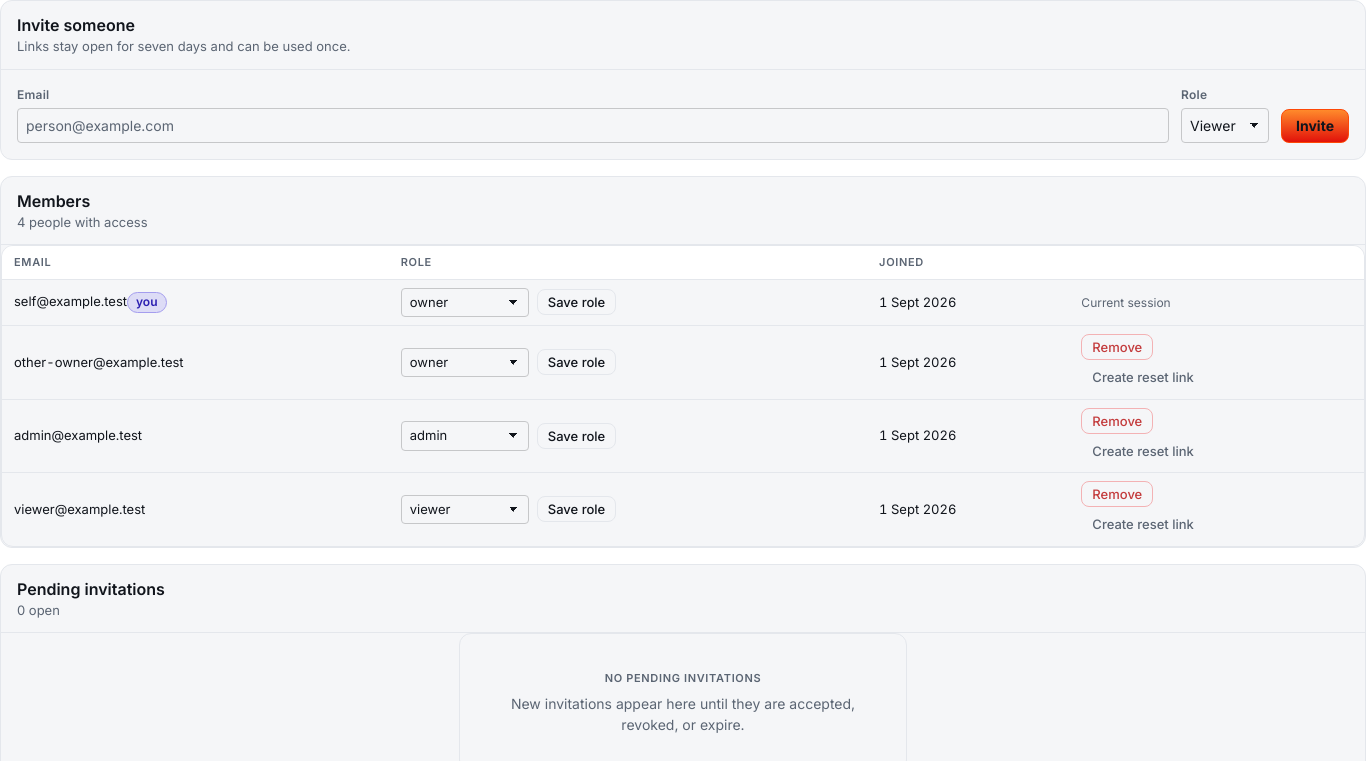
members screen one-time links › warns that an uncertain email may have replaced the shown new-account link
Type "person@example.test" into the field labelled "Email" at point(593, 125), box [17, 108, 1169, 142]
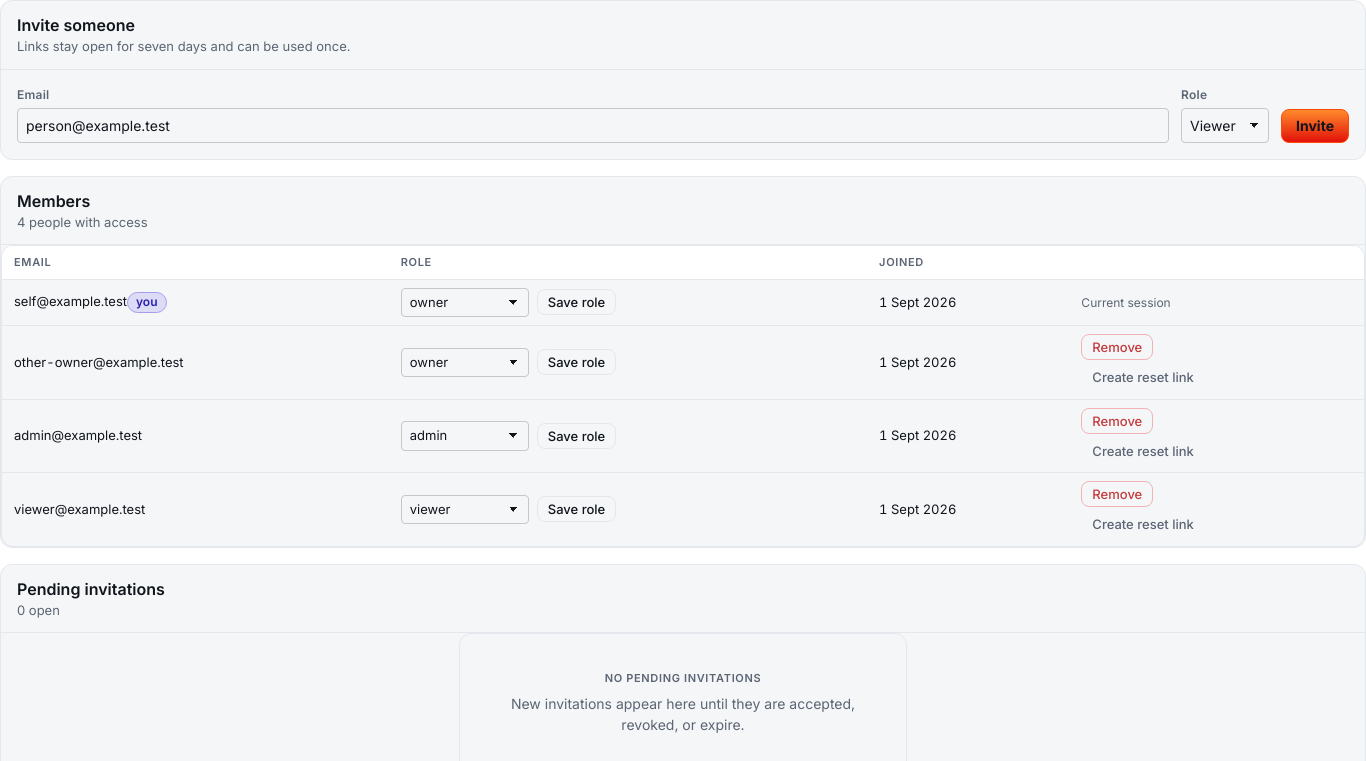
Click the button with test id "create-invite" at point(1315, 126), box [1281, 109, 1349, 142]
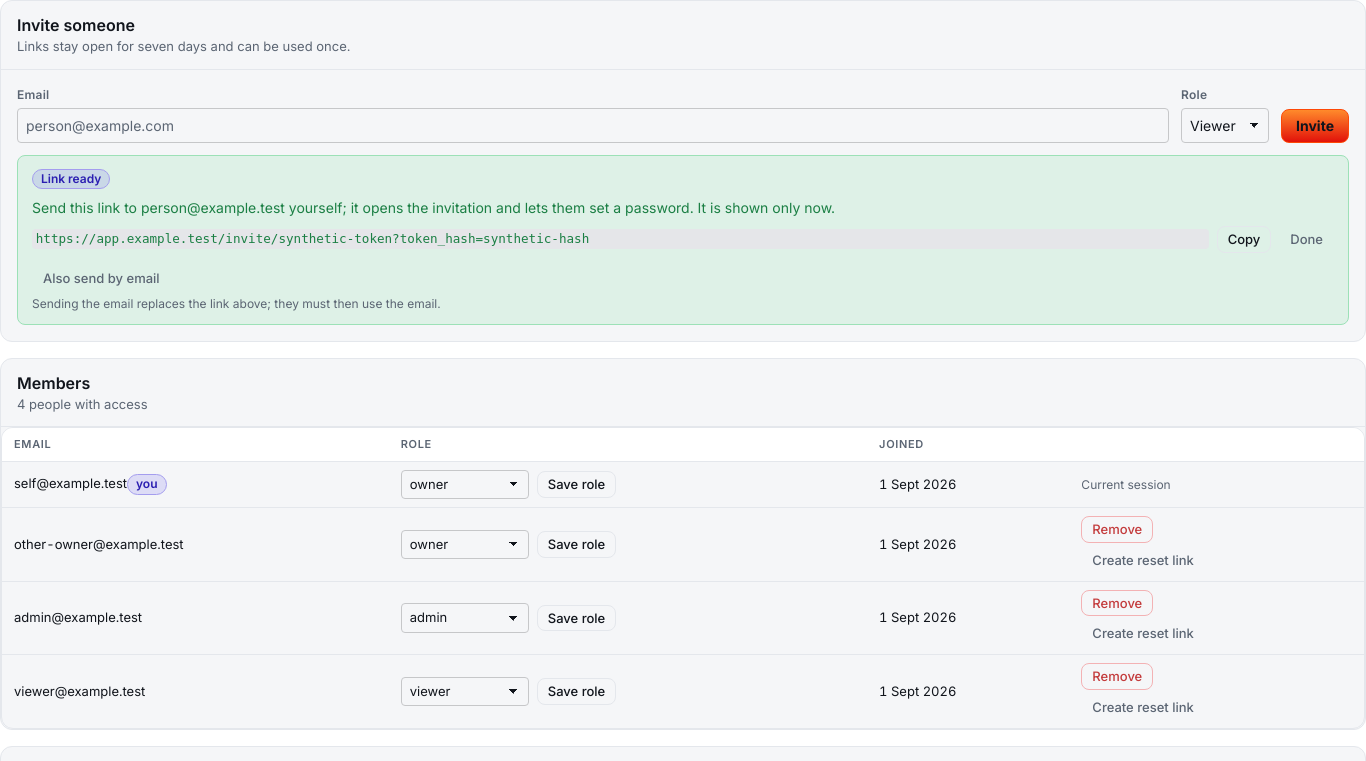
expect the number of buttons with test id "invite-send-email" is 1: met
Click the button with test id "invite-send-email" at point(101, 278), box [32, 264, 171, 291]
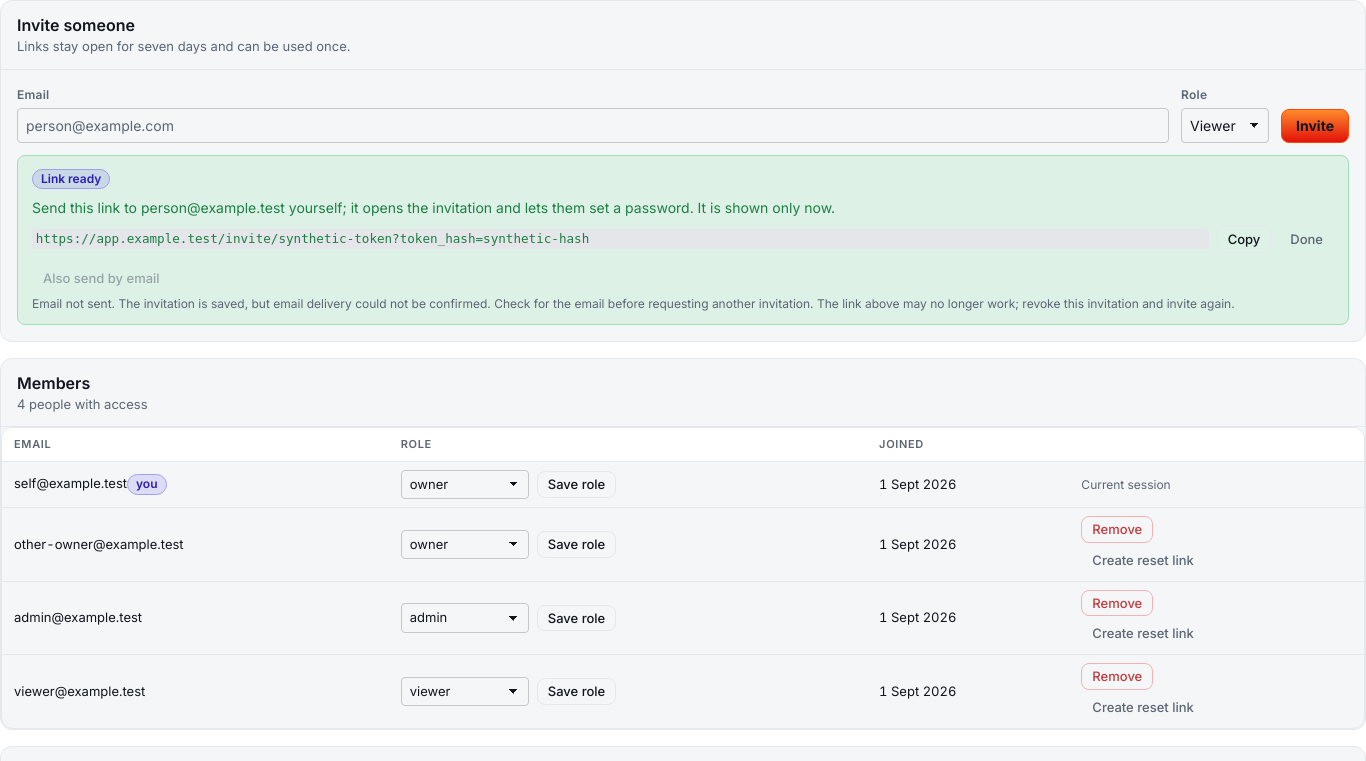
expect the number of messages with test id "invite-email-status" is 1: met, box [32, 295, 1334, 313]
expect the message with test id "invite-email-status" shows "Email not sent. The invitation is saved, but email delivery could not be confirmed. Check for the email before requesting another invitation. The link above may": met, box [32, 295, 1334, 313]
